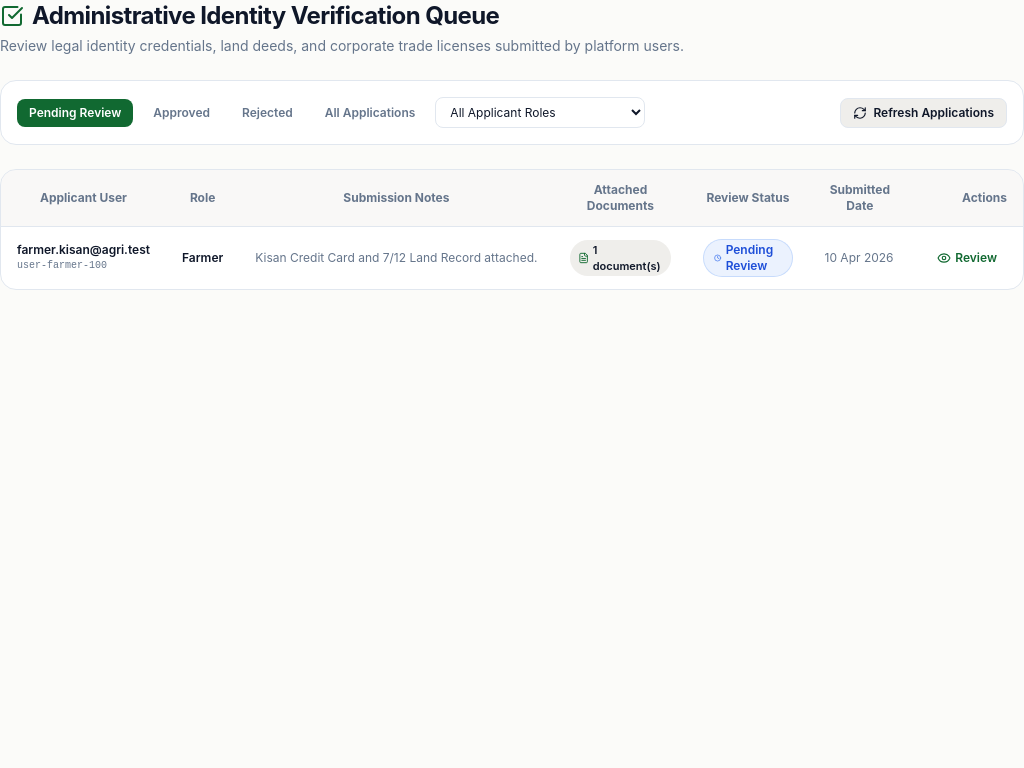
AdminVerificationQueuePage › approves verification application successfully
Later steps or results of the test are not shown.
Click the button with aria-label "review verification application" at (967, 258), box [927,246,1007,270]
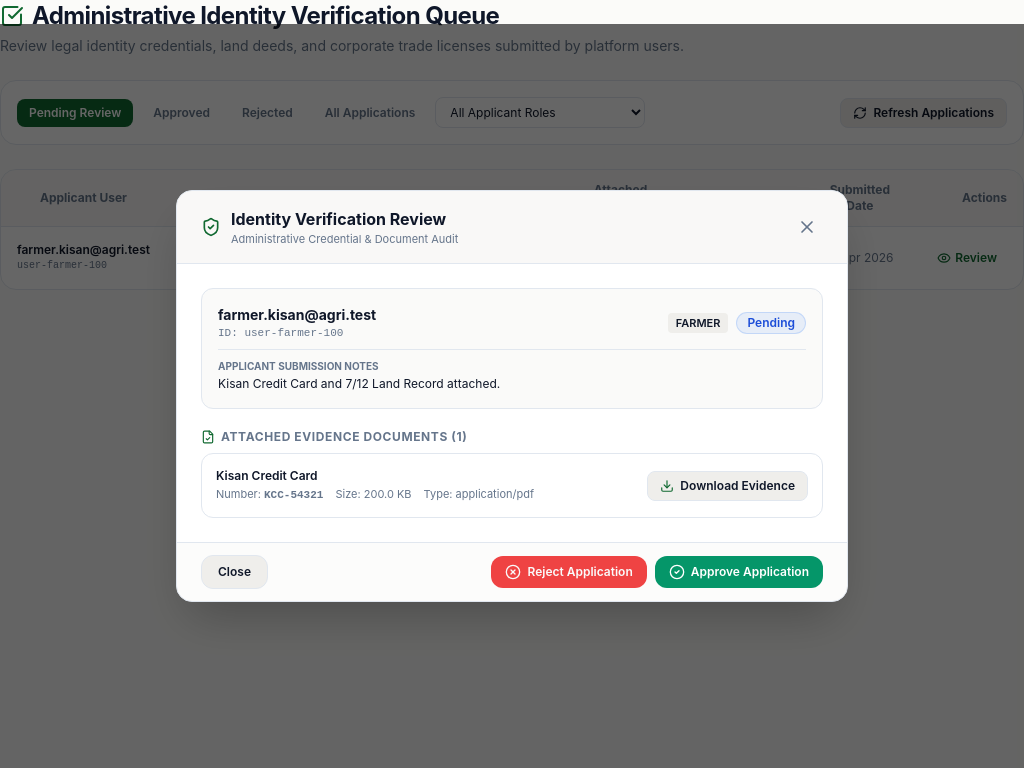
Check: the button "Approve Application" is shown
Click the button "Approve Application" at (739, 572), box [655,556,823,588]
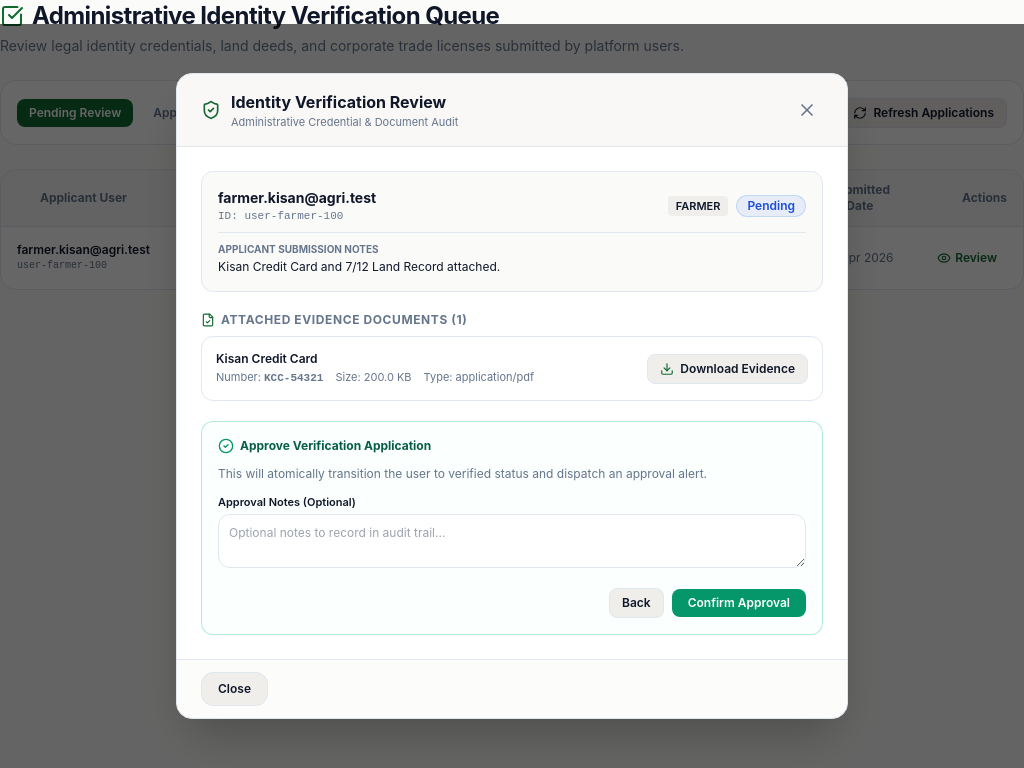
Check: the heading "Approve Verification Application" is shown, box [218,438,431,454]
